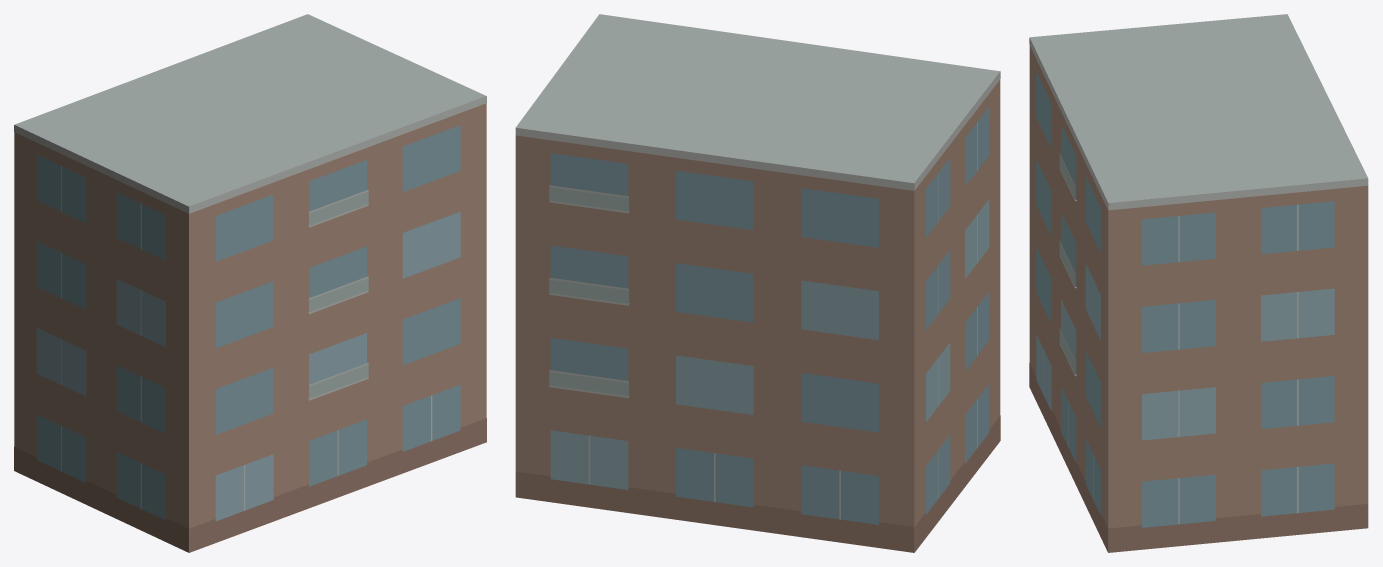
The model's file is survey-upis-32726775.glb.
3 views of the same model, side by side, from view 1: azimuth 30°, elevation 25°; view 2: azimuth 150°, elevation 25°; view 3: azimuth 270°, elevation 25° (orthographic). The views are drawn at different scales.
Parts seen in each view (by area): view 1: survey-upis-32726775.tmp; view 2: survey-upis-32726775.tmp; view 3: survey-upis-32726775.tmp.
Part boxes in pixels (x1,y1,x2,y2): survey-upis-32726775.tmp: [14, 14, 486, 552]; survey-upis-32726775.tmp: [515, 14, 1000, 552]; survey-upis-32726775.tmp: [1029, 14, 1368, 552].
Bounding box in the file's own units: 13.7 × 11.8 × 10.38.
